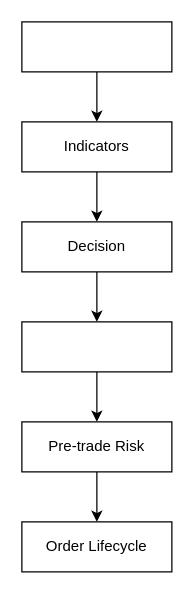
Some shapes in this 194 by 594 pixel diagram are drawn without their labels. The shapes that lost their labels are listed below. From the top down, each one's box as (x1, y1, x2, y2) in pixels, then its label:
(21, 21, 172, 72): Market
(21, 321, 172, 372): Order Construction
